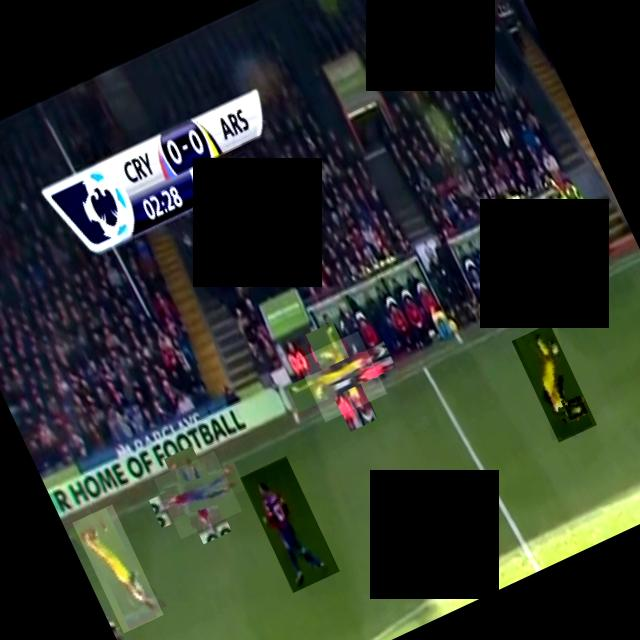ball: (562, 394, 586, 420)
soccer-player: (238, 456, 338, 592), (72, 503, 162, 632), (511, 323, 596, 442), (295, 331, 386, 422), (152, 451, 241, 538)
